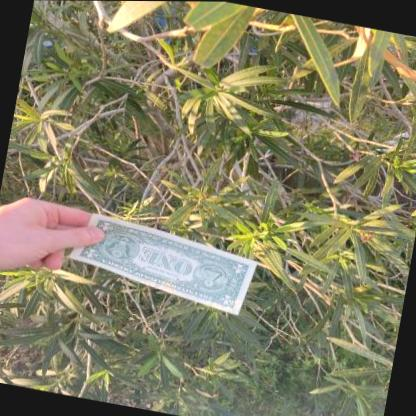dollar_back: (69, 212, 257, 314)
